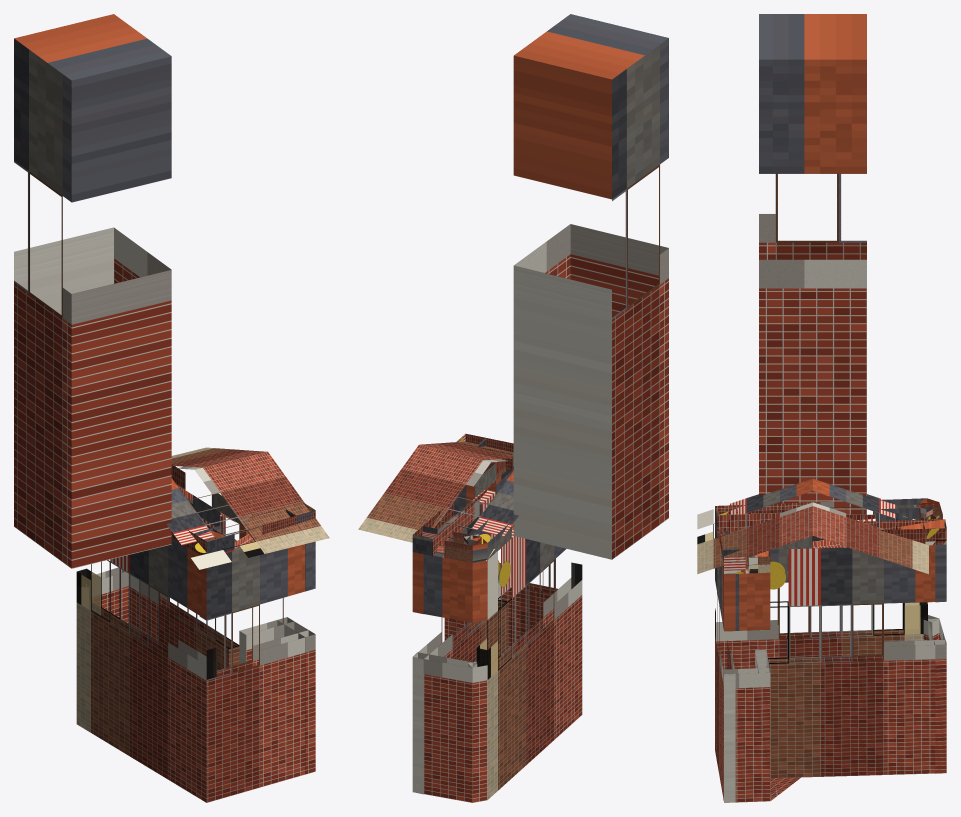
3 renders of one model, left to right at view 1: azimuth 30°, elevation 25°; view 2: azimuth 150°, elevation 25°; view 3: azimuth 270°, elevation 25°, orthographic. The views are drawn at different scales.
Visible parts, largest first — view 1: 717958883__chimney_0_xb, 717958883__wall_6_xb, 717958883__wall_0_xb, 717958883_roof_-1_xb, 717958883__wall_3_xb, 717958883__wall_1_xb, 717958883__cornice_0, 717958883__wall_4_xb, 717958883_roof_1_xb, 717958883__wall_2_xb, 717958883__cornice_3, 717958883__wall_6_xf; view 2: 717958883__chimney_0_xb, 717958883__wall_6_xb, 717958883__wall_4_xb, 717958883_roof_1_xb, 717958883__wall_3_xb, 717958883__wall_5_xb, 717958883__cornice_3, 717958883__wall_0_xb, 717958883__cornice_4, 717958883_roof_-1_xb, 717958883__wall_2_xb, 717958883__wall_6_xf (+2 smaller); view 3: 717958883__chimney_0_xb, 717958883__wall_3_xb, 717958883__wall_1_xb, 717958883__wall_6_xb, 717958883_roof_-1_xb, 717958883_roof_1_xb, 717958883__wall_0_xb, 717958883__wall_4_xb, 717958883__cornice_6, 717958883__cornice_3, 717958883__wall_6_xf, 717958883__cornice_1 (+1 smaller).
Part boxes in pixels (x1,y1,x2,y2): 717958883__chimney_0_xb: [14, 14, 171, 568]; 717958883__wall_6_xb: [76, 538, 216, 802]; 717958883__wall_0_xb: [199, 543, 308, 802]; 717958883_roof_-1_xb: [166, 452, 329, 569]; 717958883__wall_3_xb: [122, 498, 239, 670]; 717958883__wall_1_xb: [277, 541, 315, 774]; 717958883__cornice_0: [194, 502, 315, 553]; 717958883__wall_4_xb: [92, 567, 128, 623]; 717958883_roof_1_xb: [171, 447, 267, 469]; 717958883__wall_2_xb: [239, 524, 294, 663]; 717958883__cornice_3: [171, 466, 239, 526]; 717958883__wall_6_xf: [77, 569, 215, 678]; 717958883__chimney_0_xb: [513, 14, 668, 559]; 717958883__wall_6_xb: [476, 529, 582, 799]; 717958883__wall_4_xb: [415, 552, 477, 802]; 717958883_roof_1_xb: [358, 444, 518, 560]; 717958883__wall_3_xb: [412, 489, 506, 794]; 717958883__wall_5_xb: [468, 560, 487, 802]; 717958883__cornice_3: [412, 463, 513, 555]; 717958883__wall_0_xb: [498, 466, 557, 649]; 717958883__cornice_4: [416, 526, 481, 562]; 717958883_roof_-1_xb: [420, 441, 513, 462]; 717958883__wall_2_xb: [444, 476, 501, 640]; 717958883__wall_6_xf: [477, 563, 581, 678]; 717958883__chimney_0_xb: [759, 14, 866, 514]; 717958883__wall_3_xb: [768, 545, 946, 778]; 717958883__wall_1_xb: [723, 568, 770, 802]; 717958883__wall_6_xb: [715, 519, 927, 669]; 717958883_roof_-1_xb: [697, 478, 812, 573]; 717958883_roof_1_xb: [813, 478, 928, 574]; 717958883__wall_0_xb: [715, 523, 735, 802]; 717958883__wall_4_xb: [928, 519, 946, 773]; 717958883__cornice_6: [715, 498, 928, 531]; 717958883__cornice_3: [772, 519, 946, 549]; 717958883__wall_6_xf: [715, 603, 927, 635]; 717958883__cornice_1: [722, 548, 770, 574].
Bounding box in the file's own units: 0.338 × 1.05 × 0.3461.
1 material, 1 textured.
